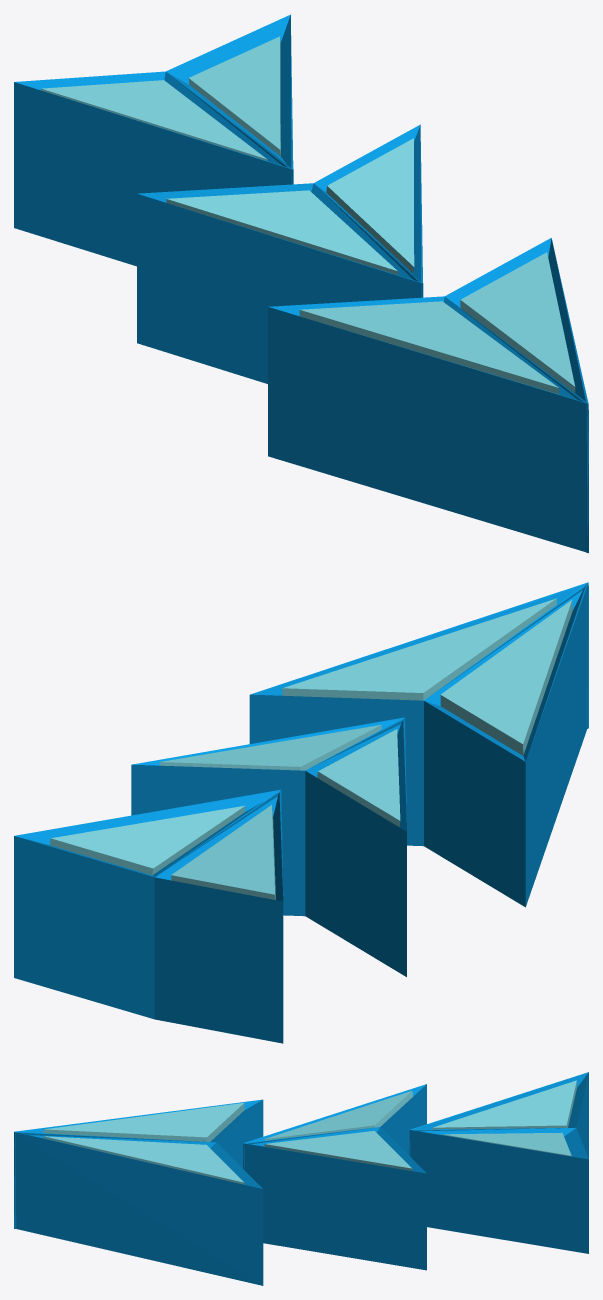
Rendered from arrow.obj.
The picture shows the model from 3 angles, top to bottom: view 1: azimuth 30°, elevation 25°; view 2: azimuth 150°, elevation 25°; view 3: azimuth 270°, elevation 25°; orthographic projection. The views are drawn at different scales.
Parts seen in each view (by area): view 1: group138128194, group109929103, group1069140805; view 2: group1069140805, group138128194, group109929103; view 3: group138128194, group109929103, group1069140805.
Part boxes in pixels (left/top/right/bottom): group138128194: left=268, top=238, right=588, bottom=552; group109929103: left=137, top=124, right=423, bottom=383; group1069140805: left=14, top=14, right=293, bottom=266; group1069140805: left=14, top=789, right=283, bottom=1043; group138128194: left=249, top=582, right=588, bottom=907; group109929103: left=131, top=717, right=406, bottom=976; group138128194: left=14, top=1099, right=263, bottom=1285; group109929103: left=243, top=1084, right=426, bottom=1270; group1069140805: left=409, top=1072, right=588, bottom=1253.
Size of the model in its own units: 1.25 by 0.791 by 3.34.
